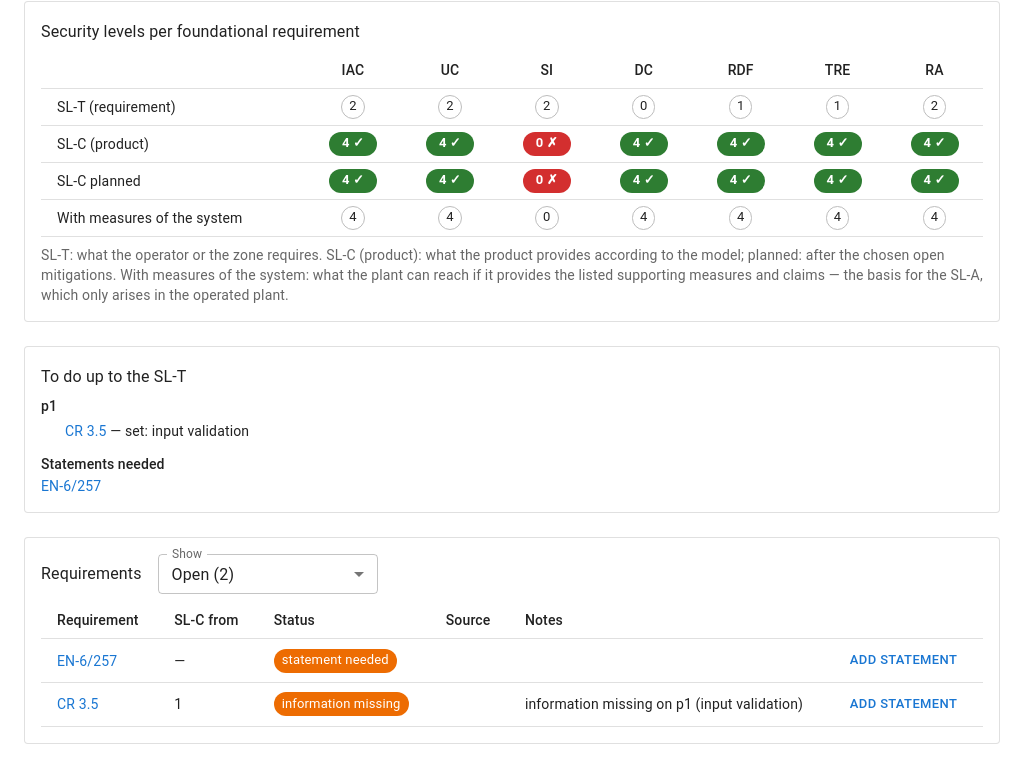
Scenario: ComplianceTab — EN 50742 B › a recommended row is marked
The image size is (1024, 768).
(page scrolled)
Replace the text in the field with test id "compliance-filter" with "all" at {"x": 268, "y": 574}, box top-left (158, 554), bottom-right (378, 594)
(page scrolled)
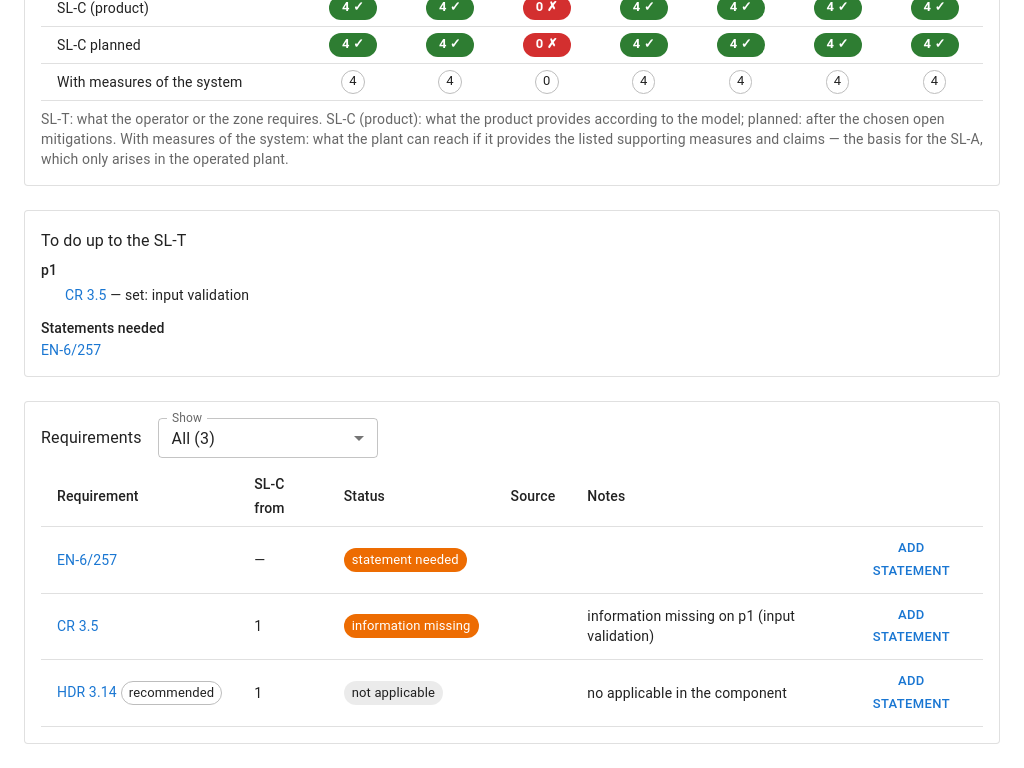
Expected: the element with test id "compliance-recommended-HDR 3.14" is shown, top-left (121, 681), bottom-right (222, 705)
